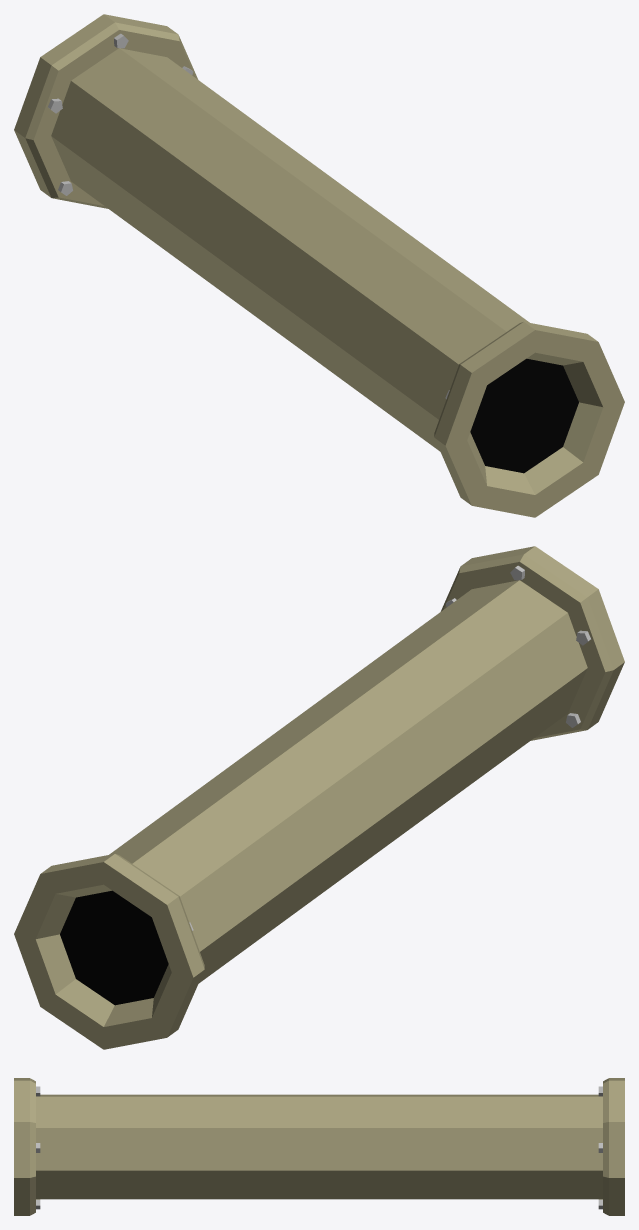
Rendered from PipeLong.glb.
3 renders of one model, top to bottom at view 1: azimuth 30°, elevation 25°; view 2: azimuth 150°, elevation 25°; view 3: azimuth 270°, elevation 25°, orthographic. The views are drawn at different scales.
Parts seen in each view (by area): view 1: LongPipe; view 2: LongPipe; view 3: LongPipe.
Boxes of the visible parts, x1=… form: LongPipe: x1=14, y1=14, x2=624, y2=517; LongPipe: x1=14, y1=546, x2=624, y2=1049; LongPipe: x1=14, y1=1078, x2=624, y2=1215.
Bounding box in the file's own units: 2.64 × 2.64 × 10.98.
